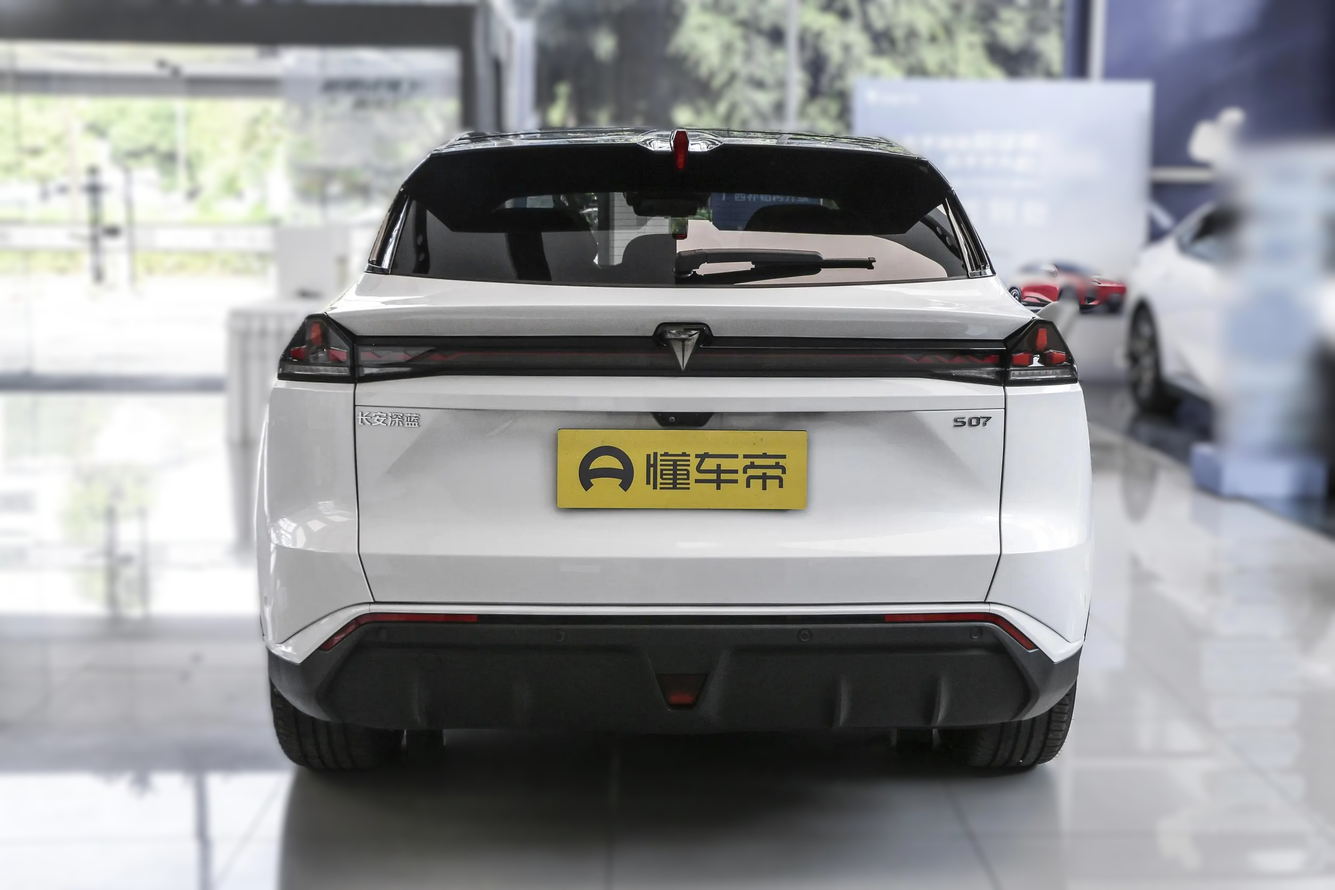Deepal: (668, 330, 699, 369)
